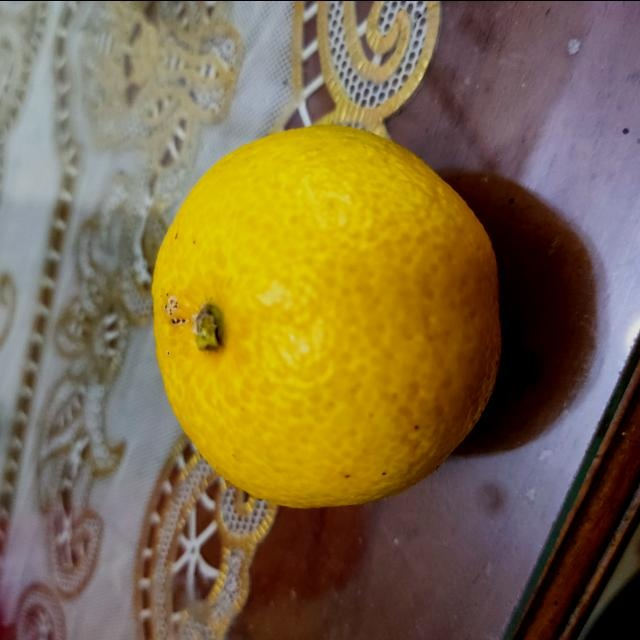agrume: (148, 126, 500, 506)
